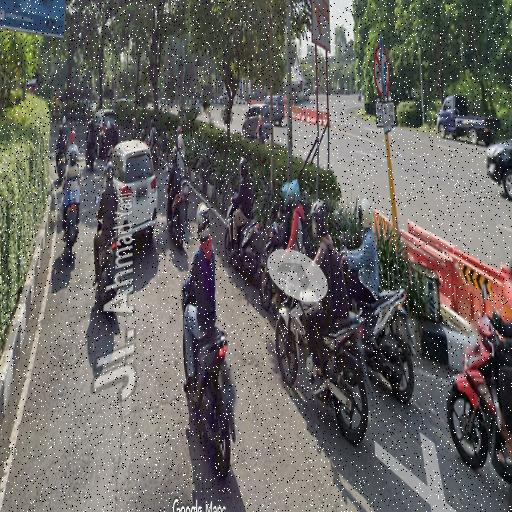Helmet: (309, 201, 327, 239), (197, 203, 210, 241), (359, 198, 373, 230), (287, 180, 300, 207), (105, 162, 114, 183), (282, 182, 289, 207), (239, 158, 247, 177), (70, 151, 77, 166), (178, 134, 184, 149), (172, 146, 177, 163), (177, 125, 182, 136), (71, 130, 75, 143), (88, 119, 93, 128), (59, 125, 63, 135), (141, 130, 145, 140), (107, 121, 111, 129), (151, 119, 154, 127), (133, 117, 136, 124), (63, 117, 66, 124), (259, 115, 261, 122)
Motor: (447, 312, 511, 483), (316, 312, 371, 444), (189, 328, 235, 477), (357, 289, 414, 402), (225, 204, 264, 281), (167, 177, 188, 249), (97, 237, 117, 307), (258, 242, 273, 310), (66, 203, 78, 262), (146, 132, 159, 169), (57, 151, 66, 183), (86, 145, 95, 171), (255, 131, 265, 145), (358, 92, 361, 102)
